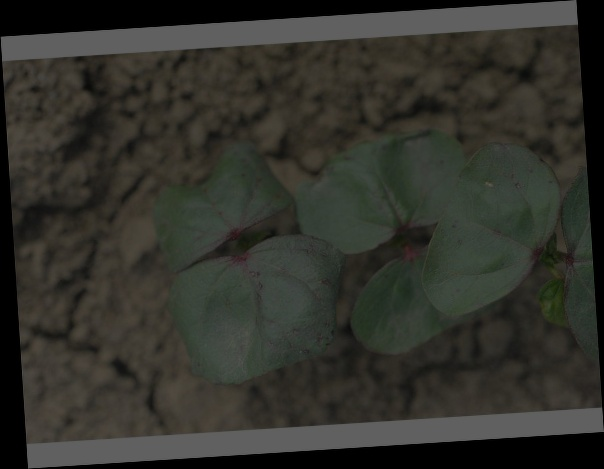cotton: (157, 130, 589, 376)
